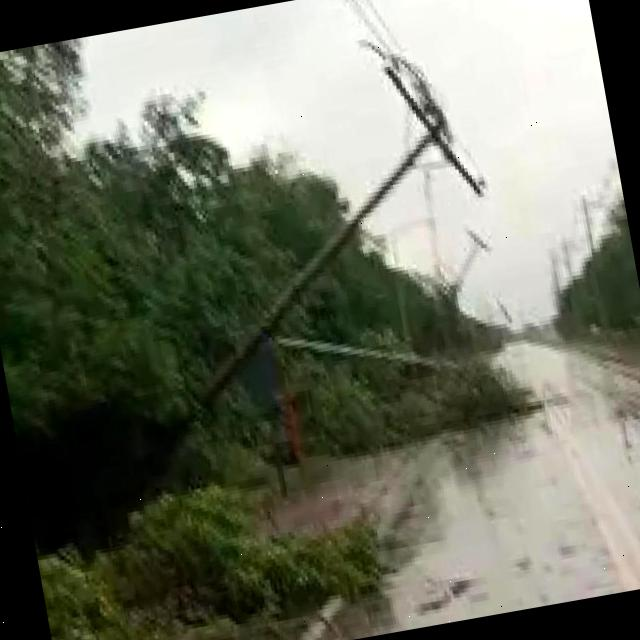Broken Pole: (182, 52, 492, 432)
